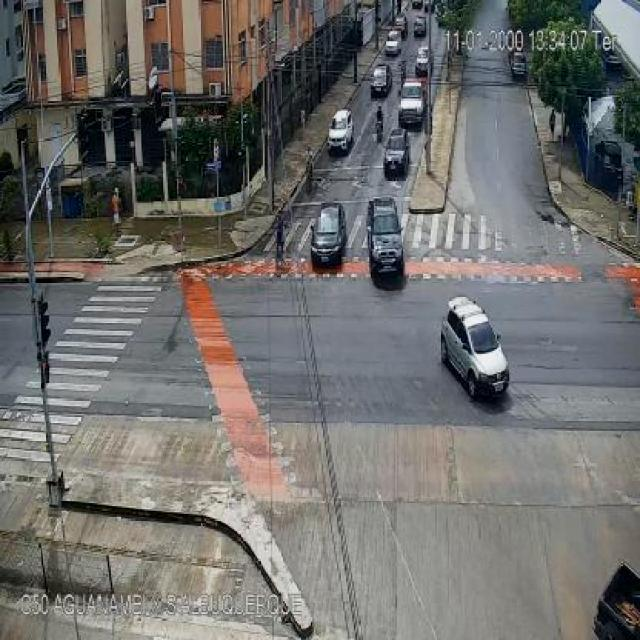Car: (442, 297, 511, 399), (367, 199, 405, 279), (309, 203, 346, 269), (383, 127, 410, 175), (398, 82, 426, 126), (327, 108, 354, 152), (372, 65, 392, 96), (509, 51, 528, 78), (604, 49, 624, 72), (384, 30, 402, 55), (414, 47, 430, 74), (413, 16, 427, 36), (394, 15, 407, 36), (412, 0, 422, 10)
